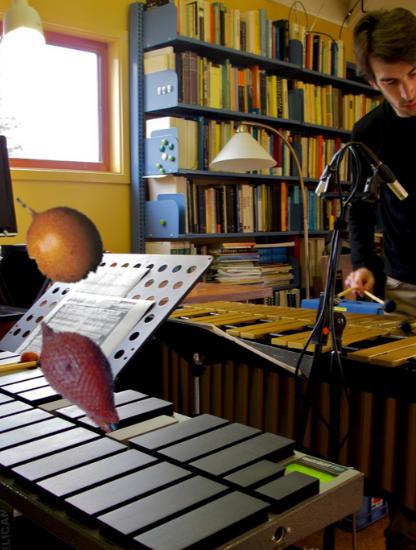Granadilla: (3, 181, 113, 291)
Salak: (14, 308, 146, 440)
